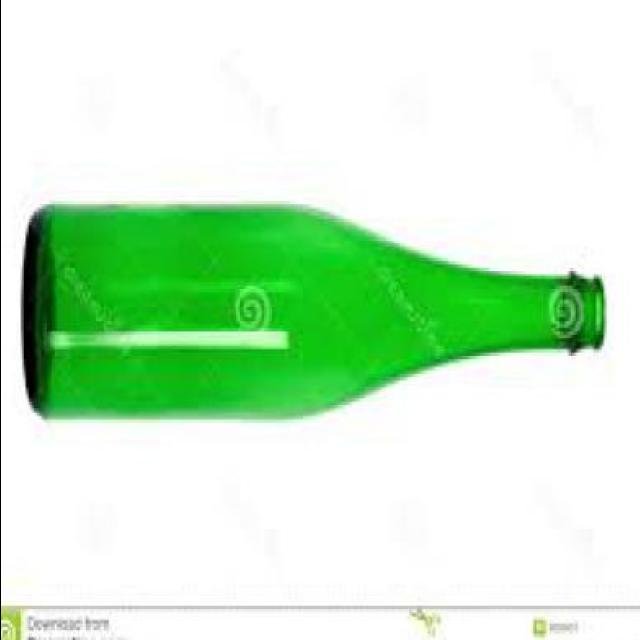kaca: (24, 200, 606, 417)
